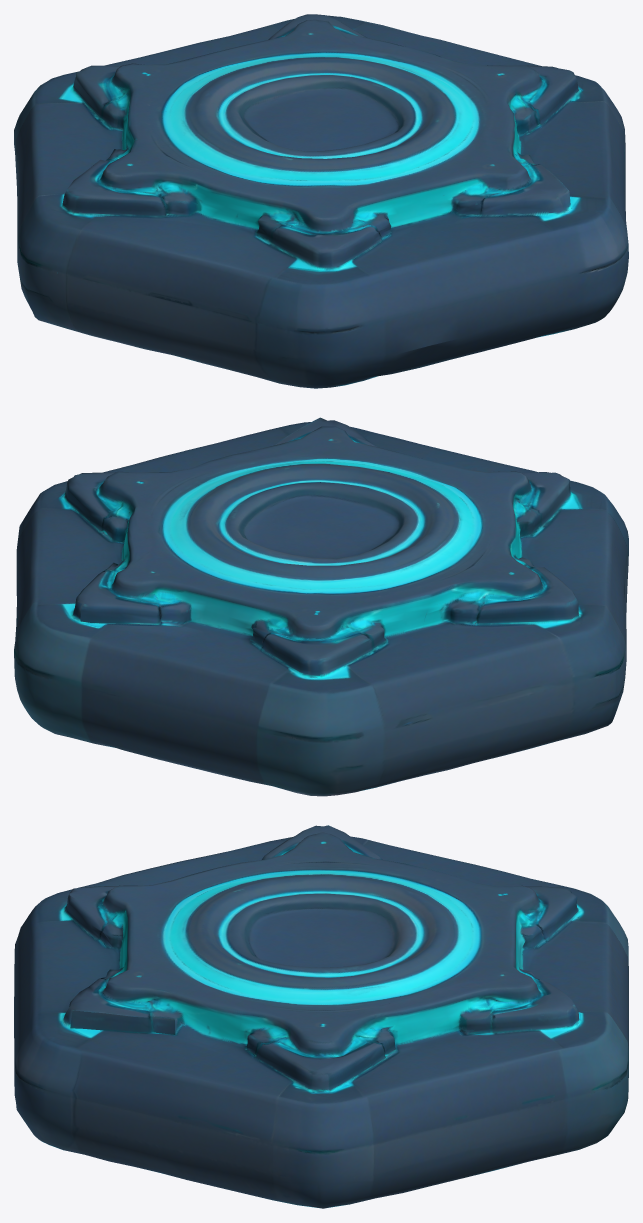
File: A_spinner_base_an_oc_0926182029_texture.fbx
The picture shows the model from 3 angles, top to bottom: view 1: azimuth 30°, elevation 25°; view 2: azimuth 150°, elevation 25°; view 3: azimuth 270°, elevation 25°; orthographic projection.
Parts seen in each view (by area): view 1: Mesh0; view 2: Mesh0; view 3: Mesh0.
Boxes of the visible parts, left/top/right/bottom form: Mesh0: left=14, top=14, right=628, bottom=388; Mesh0: left=14, top=417, right=628, bottom=796; Mesh0: left=14, top=825, right=628, bottom=1208.
Bounding box in the file's own units: 191 × 47.68 × 170.
Materials: 1 (1 with a texture image).
